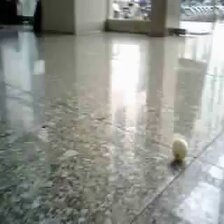w: (171, 138, 189, 160)
